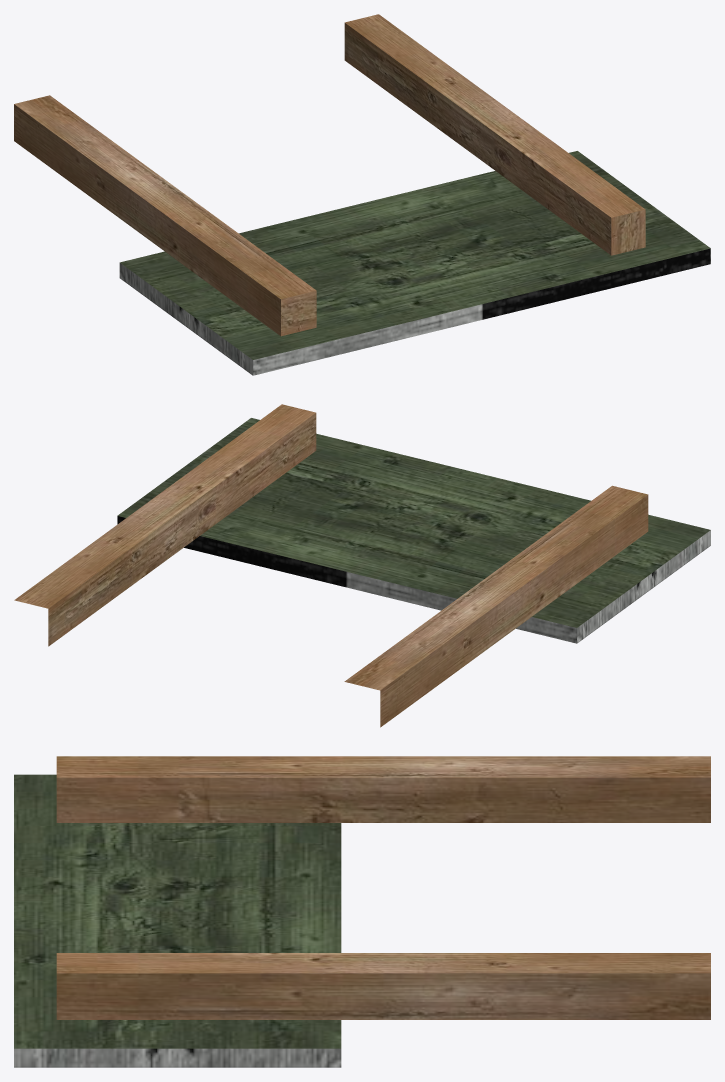
Rendered from sign_minefieldclear.glb.
The picture shows the model from 3 angles, top to bottom: view 1: azimuth 30°, elevation 25°; view 2: azimuth 150°, elevation 25°; view 3: azimuth 270°, elevation 25°; orthographic projection. The views are drawn at different scales.
Size of the model in its own units: 23.78 by 2.66 by 25.56.
Materials: 2 (2 with a texture image).
